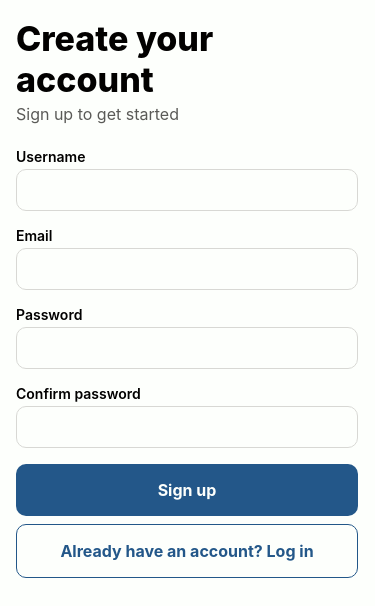
Scenario: SignupScreen › shows a mismatch error when password confirmation does not match
The image size is (375, 606).
Type "john" into the field named "Username".
click(187, 190); type("john")  # box [16,169,358,211]
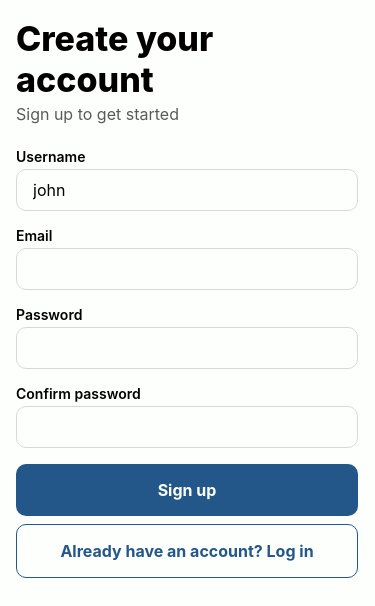
Type "john@example.com" into the field named "Email".
click(187, 269); type("john@example.com")  # box [16,248,358,290]
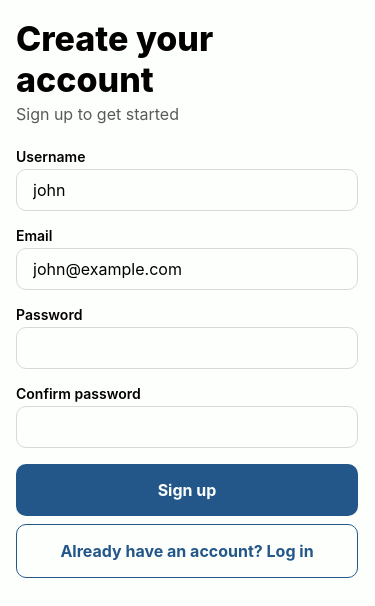
Type "password123" into the password field named "Password".
click(187, 348); type("password123")  # box [16,327,358,369]
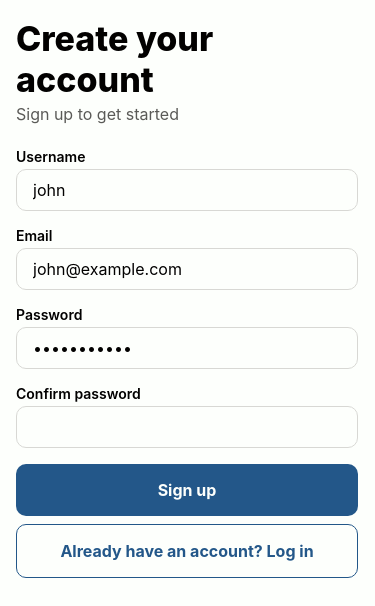
Type "different123" into the password field named "Confirm password".
click(187, 427); type("different123")  # box [16,406,358,448]
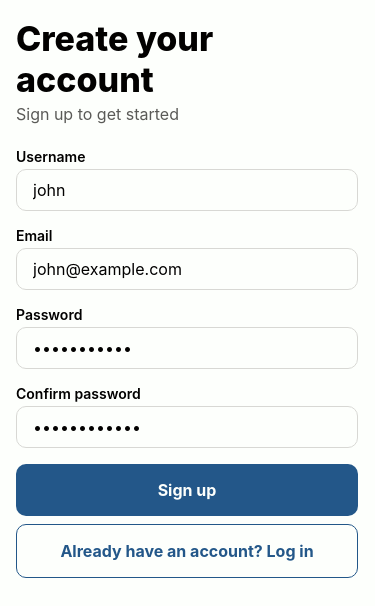
Click the text "Sign up".
click(187, 490)  # box [158,480,216,500]
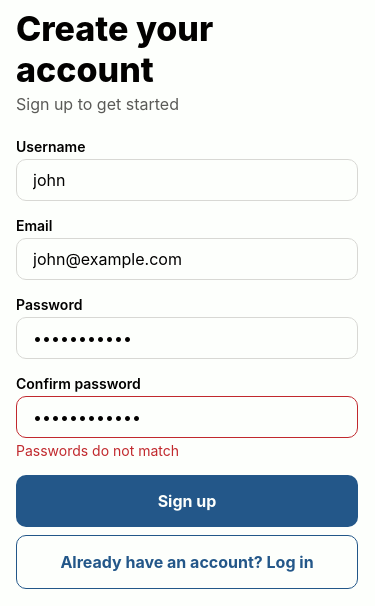
Expected: the text "Passwords do not match" is shown, [16,442,179,458]
